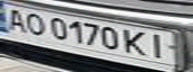0: (45, 16, 69, 42), (100, 24, 121, 52)
1: (63, 18, 84, 44)
7: (81, 20, 103, 47)
A: (0, 6, 30, 34)
I: (145, 32, 172, 61)
K: (121, 28, 151, 57)
O: (21, 10, 48, 37)
